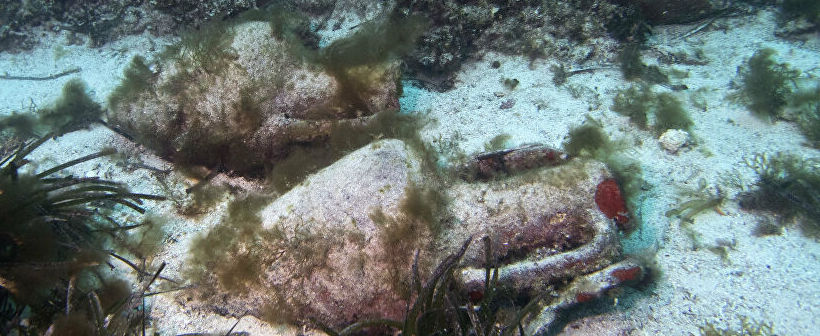amphora: (208, 138, 640, 336), (96, 3, 408, 154)
